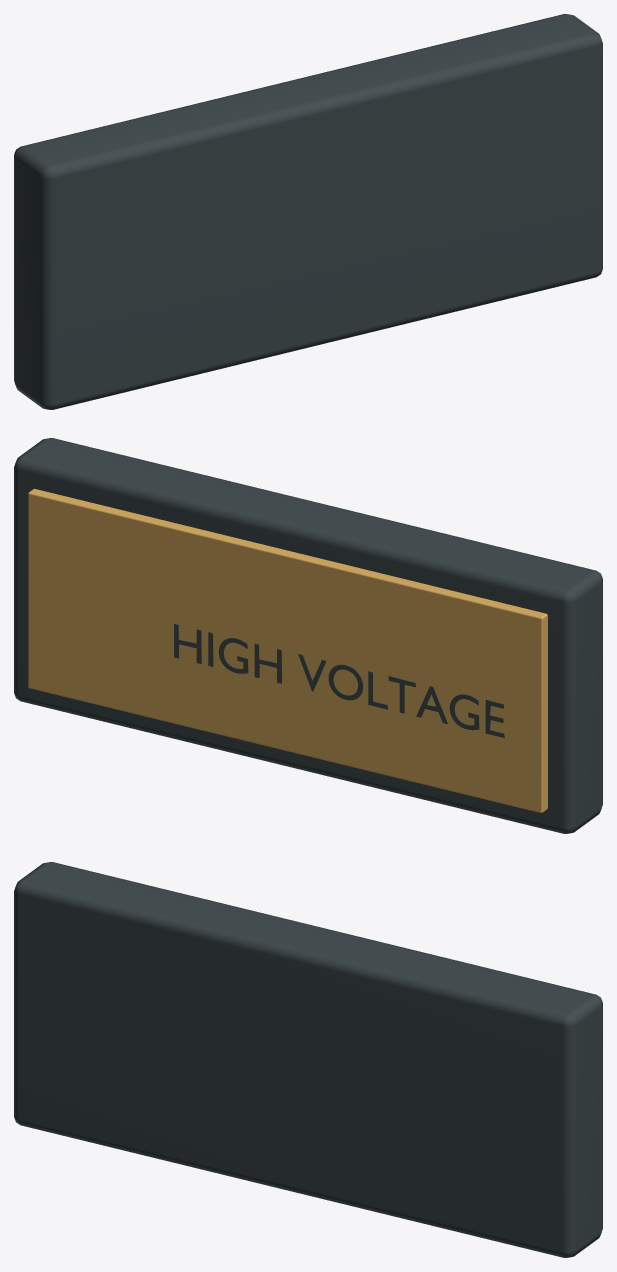
Rendered from warning_sign_frame.glb.
3 renders of one model, top to bottom at view 1: azimuth 30°, elevation 25°; view 2: azimuth 150°, elevation 25°; view 3: azimuth 330°, elevation 25°, orthographic.
Parts seen in each view (by area): view 1: VIS_warning_sign_frame_back; view 2: VIS_warning_sign_frame_face, VIS_warning_sign_frame_back, VIS_warning_sign_frame_legend; view 3: VIS_warning_sign_frame_back.
Boxes of the visible parts, x1=… form: VIS_warning_sign_frame_back: x1=14, y1=14, x2=602, y2=409; VIS_warning_sign_frame_face: x1=28, y1=489, x2=547, y2=812; VIS_warning_sign_frame_back: x1=14, y1=438, x2=602, y2=833; VIS_warning_sign_frame_legend: x1=174, y1=623, x2=504, y2=737; VIS_warning_sign_frame_back: x1=14, y1=862, x2=602, y2=1257.
Bounding box in the file's own units: 0.72 × 0.3 × 0.0985.
